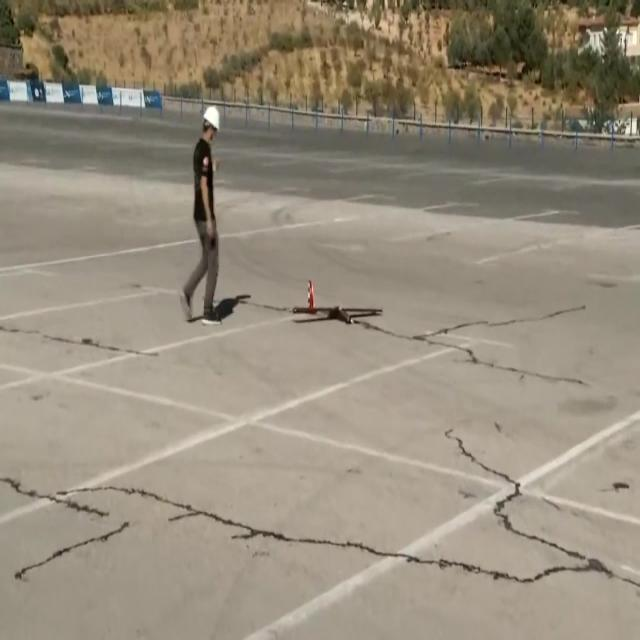iha: (321, 274, 353, 327)
